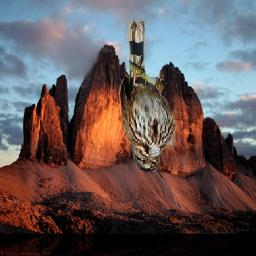Sparrow: (120, 20, 177, 173)
